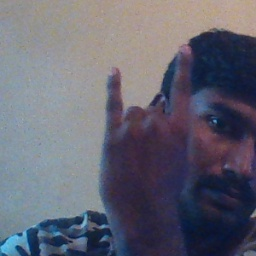V: (99, 40, 209, 231)
